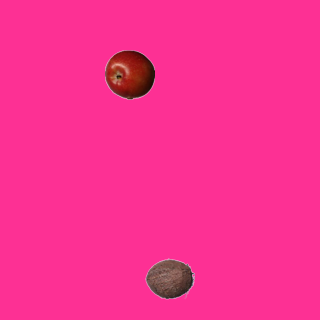Apple Braeburn: (104, 49, 154, 99)
Cocos: (144, 253, 194, 303)
